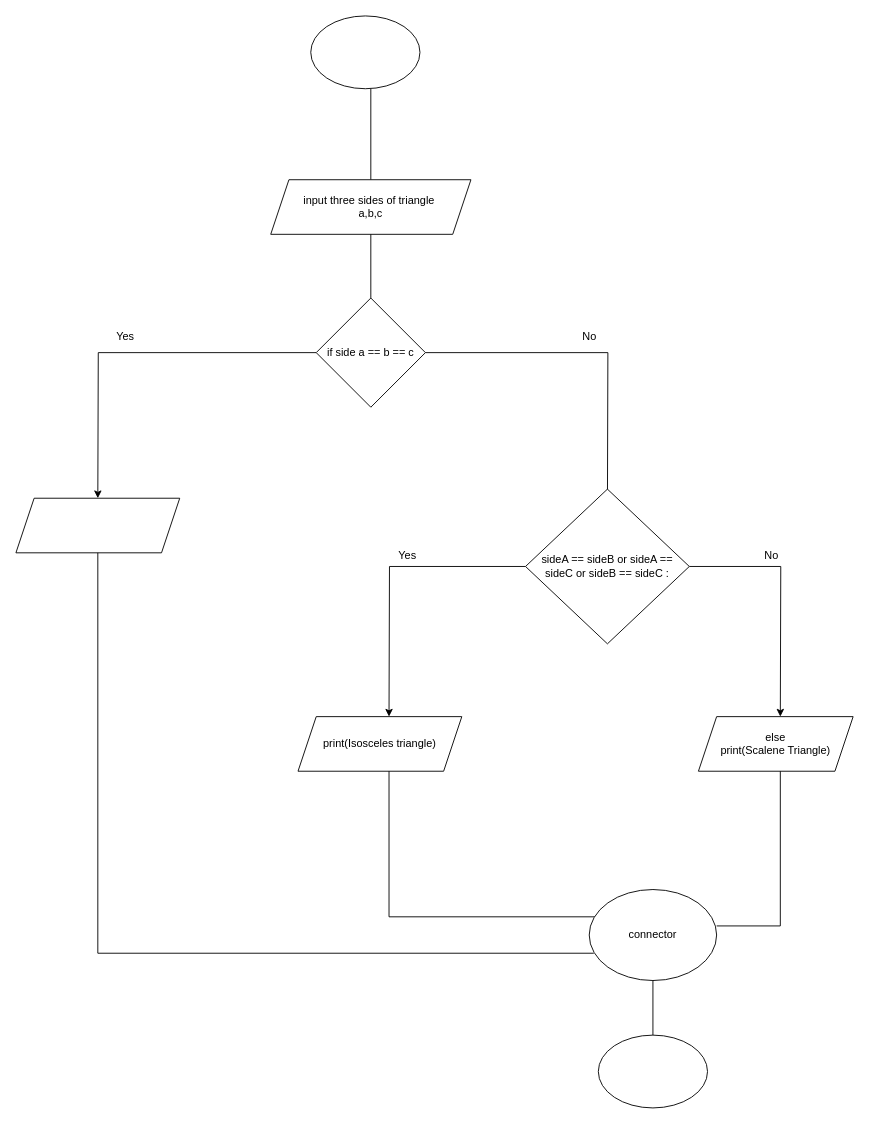
This 869x1124 diagram has some shape labels left out. Each missing label, with the centre of its shape:
print(equilateral triangle): (x=97, y=525)
START: (x=365, y=52)
stop: (x=652, y=1071)
